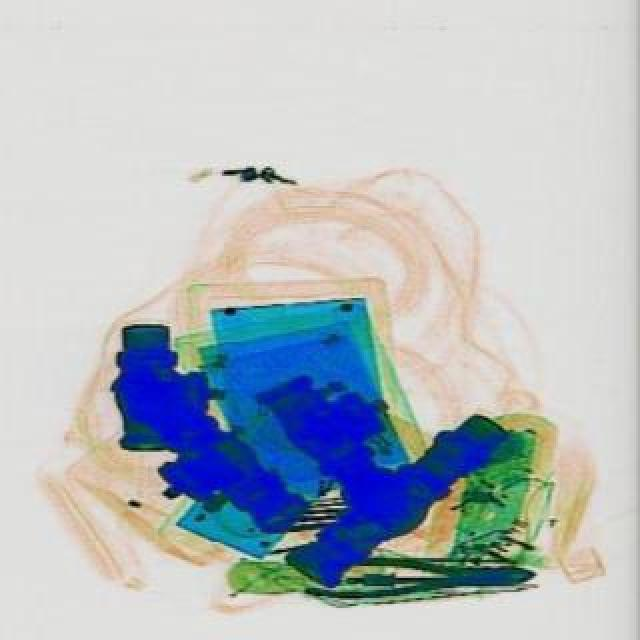wrench: (308, 552, 540, 596)
